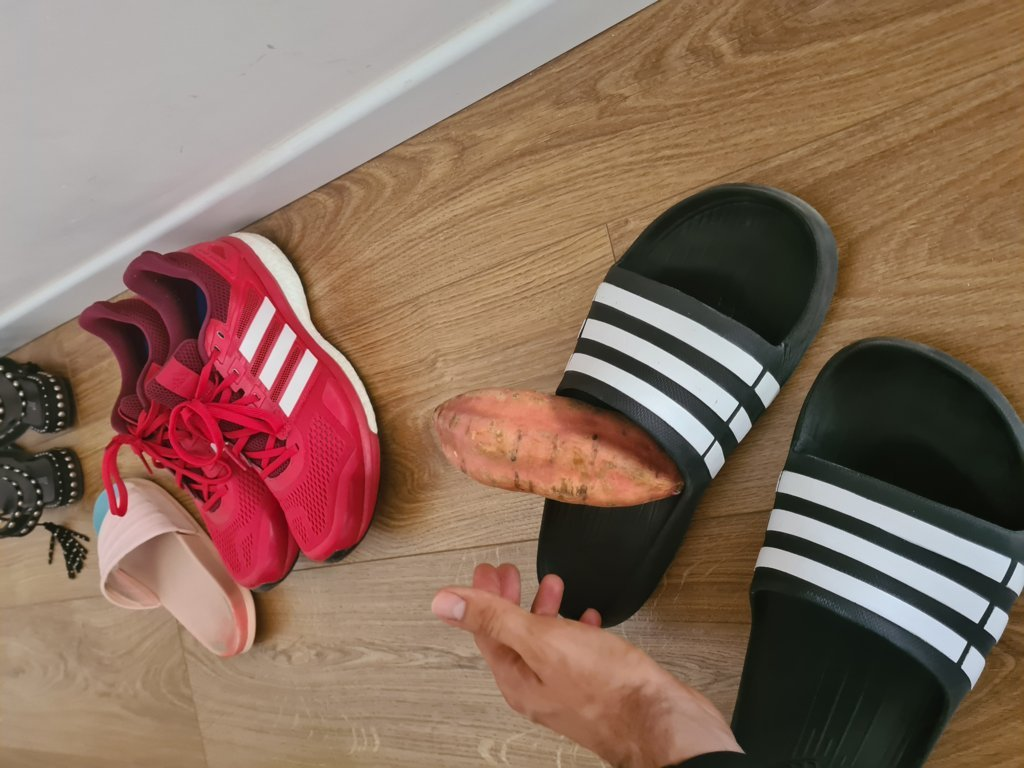Sweet Potatow: (425, 394, 691, 500)
